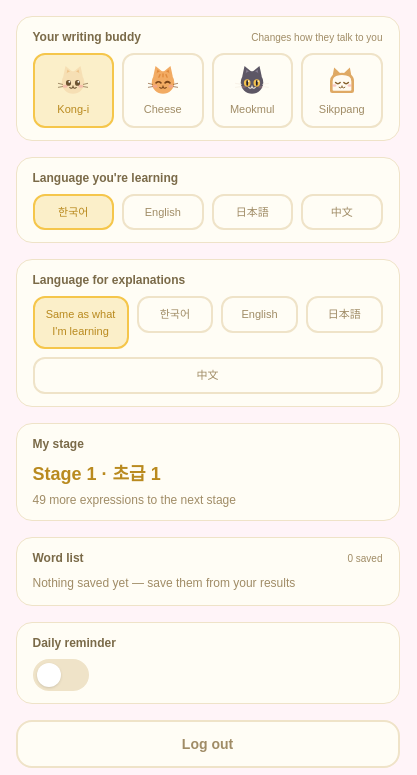
Test: 고르면 바로 저장 › 저장이 실패하면 알려준다
The image size is (417, 775).
(page scrolled)
What coordinates should you click on to do the following:
click the switch named "Daily reminder"
I would click on:
 (60, 675)
Its box is [32, 659, 88, 691].
(page scrolled)
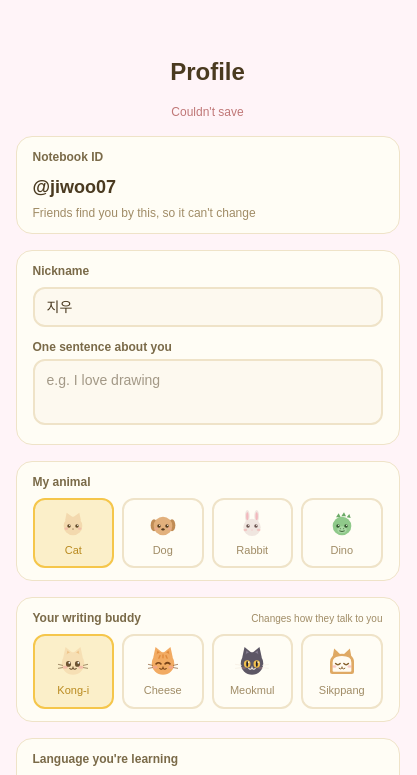
Expected: the text "Couldn't save" is shown, [171, 105, 244, 119]
